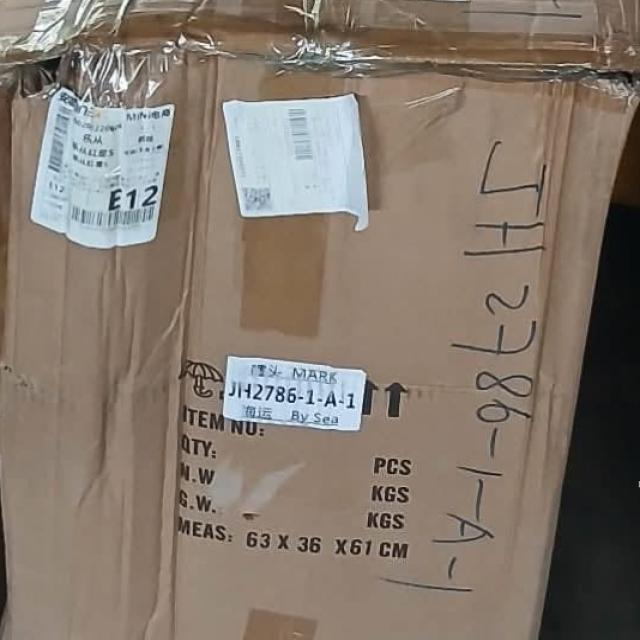carton_box: (0, 0, 640, 640)
export_mark_label: (42, 90, 170, 256)
keep_dry_label: (176, 334, 230, 420)
package_damage: (1, 5, 156, 165)
this_side_up_label: (357, 365, 435, 446)
